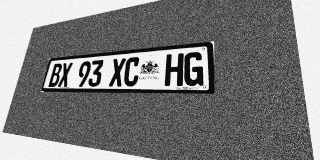3: (87, 60, 104, 87)
9: (76, 61, 92, 87)
B: (48, 63, 63, 87)
C: (123, 57, 141, 86)
G: (183, 51, 204, 86)
H: (164, 53, 184, 86)
X: (109, 58, 126, 86), (58, 62, 73, 87)
